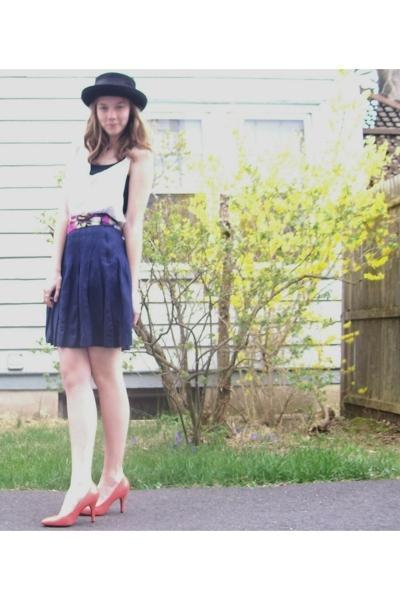hat: (84, 72, 146, 121)
shirt: (66, 146, 129, 224)
shoe: (60, 482, 132, 530)
skirt: (37, 204, 131, 355)
